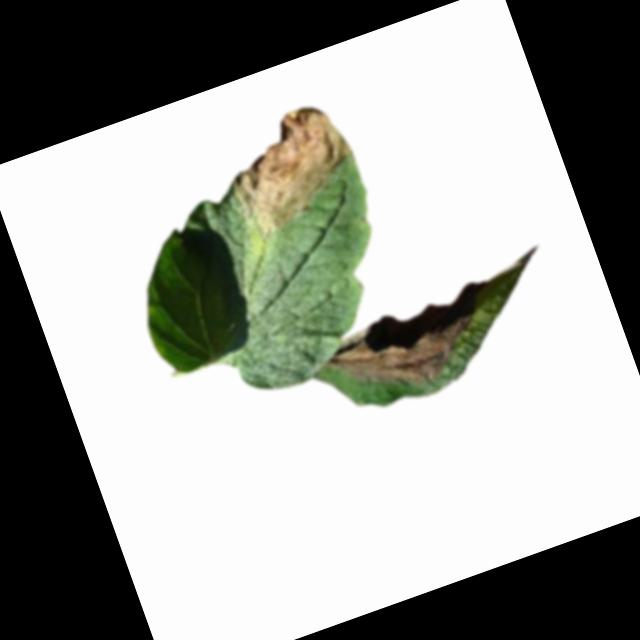Late_blight: (210, 94, 371, 246), (330, 302, 488, 410)
